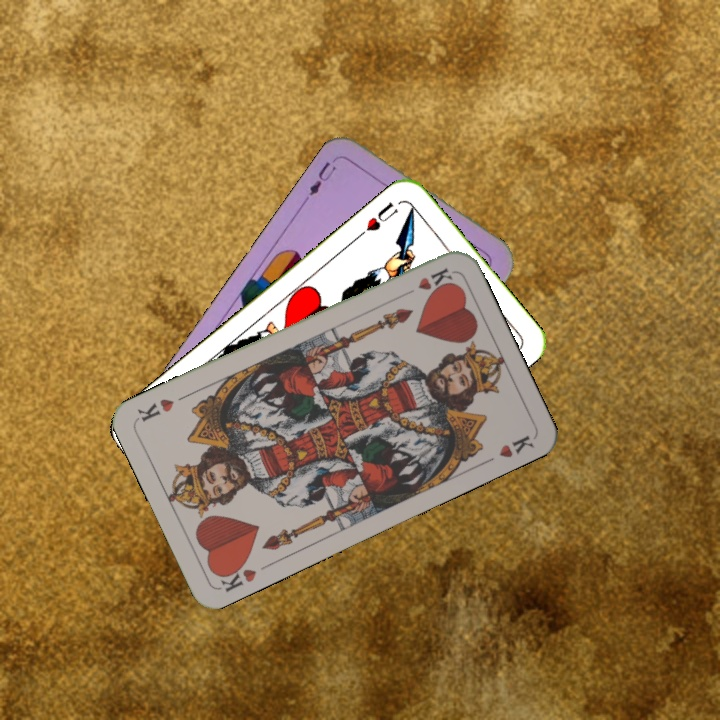EU: (305, 153, 341, 199)
HK: (398, 263, 455, 300), (212, 557, 259, 595)
HU: (354, 198, 401, 240)
